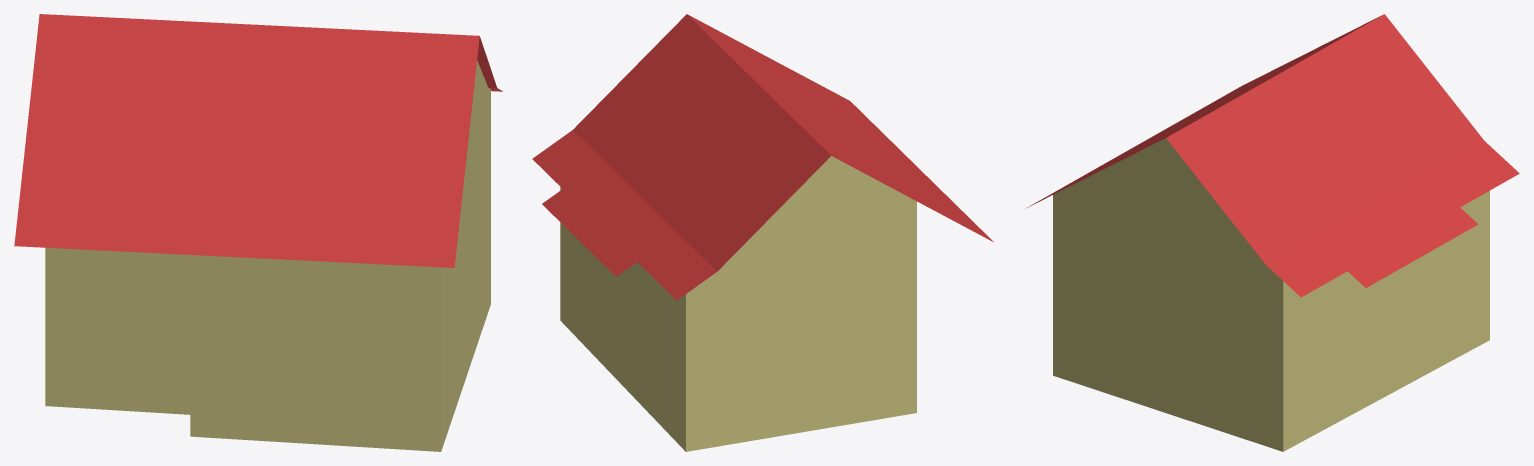
3 renders of one model, left to right at view 1: azimuth 30°, elevation 25°; view 2: azimuth 150°, elevation 25°; view 3: azimuth 270°, elevation 25°, orthographic. The views are drawn at different scales.
Size of the model in its own units: 16.56 by 16.43 by 10.24.
